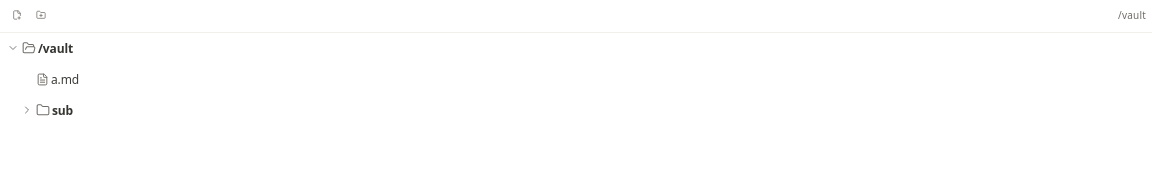
Test: FileTree keyboard access › names the disclosure caret and reports the expanded state
Expected: the element with class "tree-row" showing "sub" is shown, left=20, top=102, right=1124, bottom=118
Click the 2nd button with class "caret" at coordinates (27, 110), box left=20, top=103, right=34, bottom=117
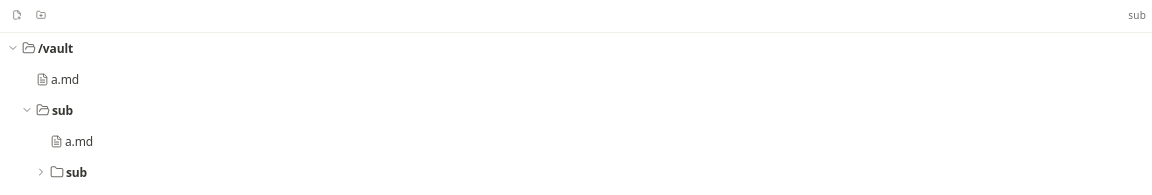
Now the button with class "caret" is expanded, box left=20, top=103, right=34, bottom=117
